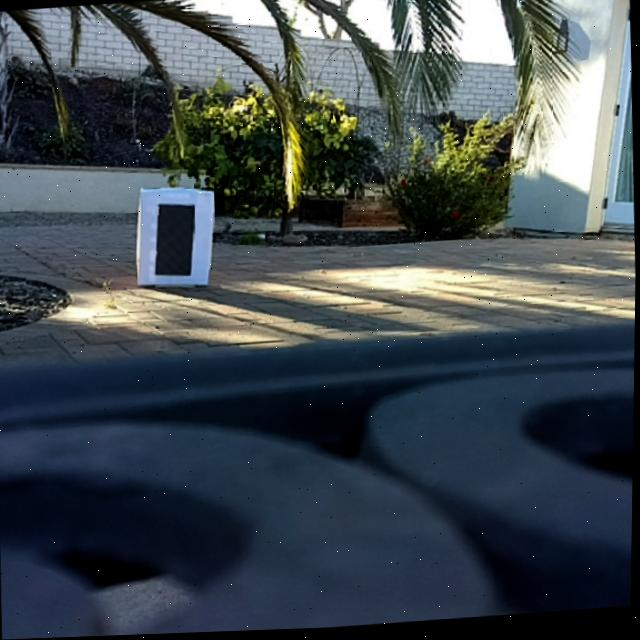led: (159, 200, 194, 284)
